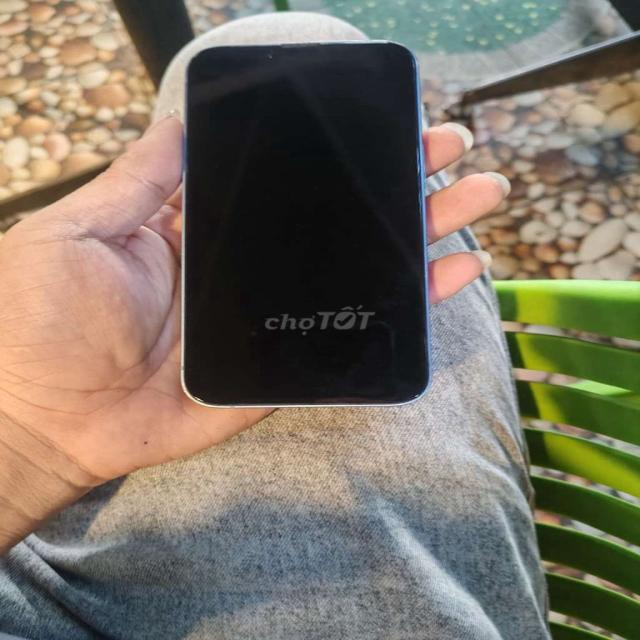gen_14: (167, 32, 446, 421)
